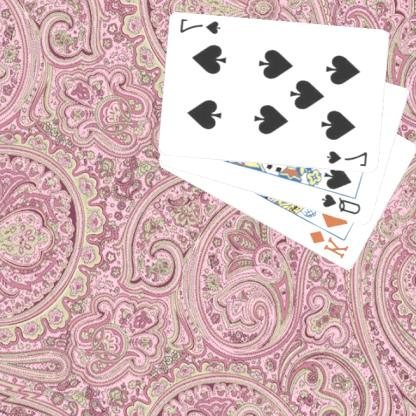7S: (326, 148, 371, 169), (179, 16, 224, 36)
KD: (308, 228, 352, 261)
QS: (320, 192, 364, 216)
